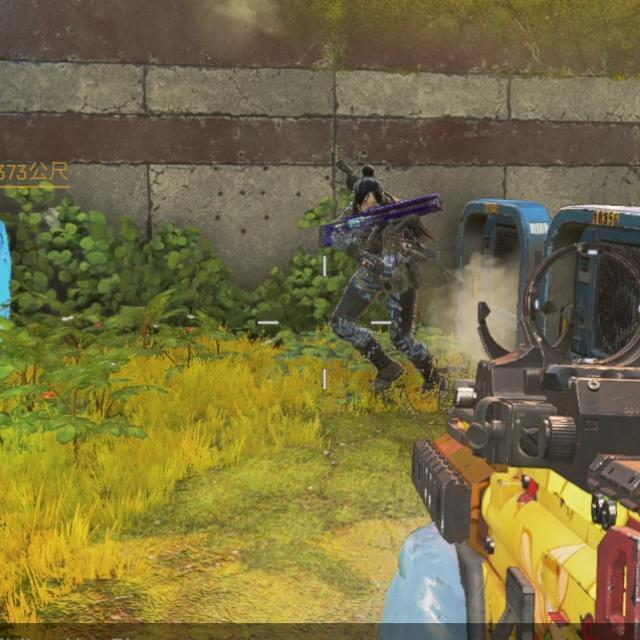avatar: (316, 163, 423, 398)
